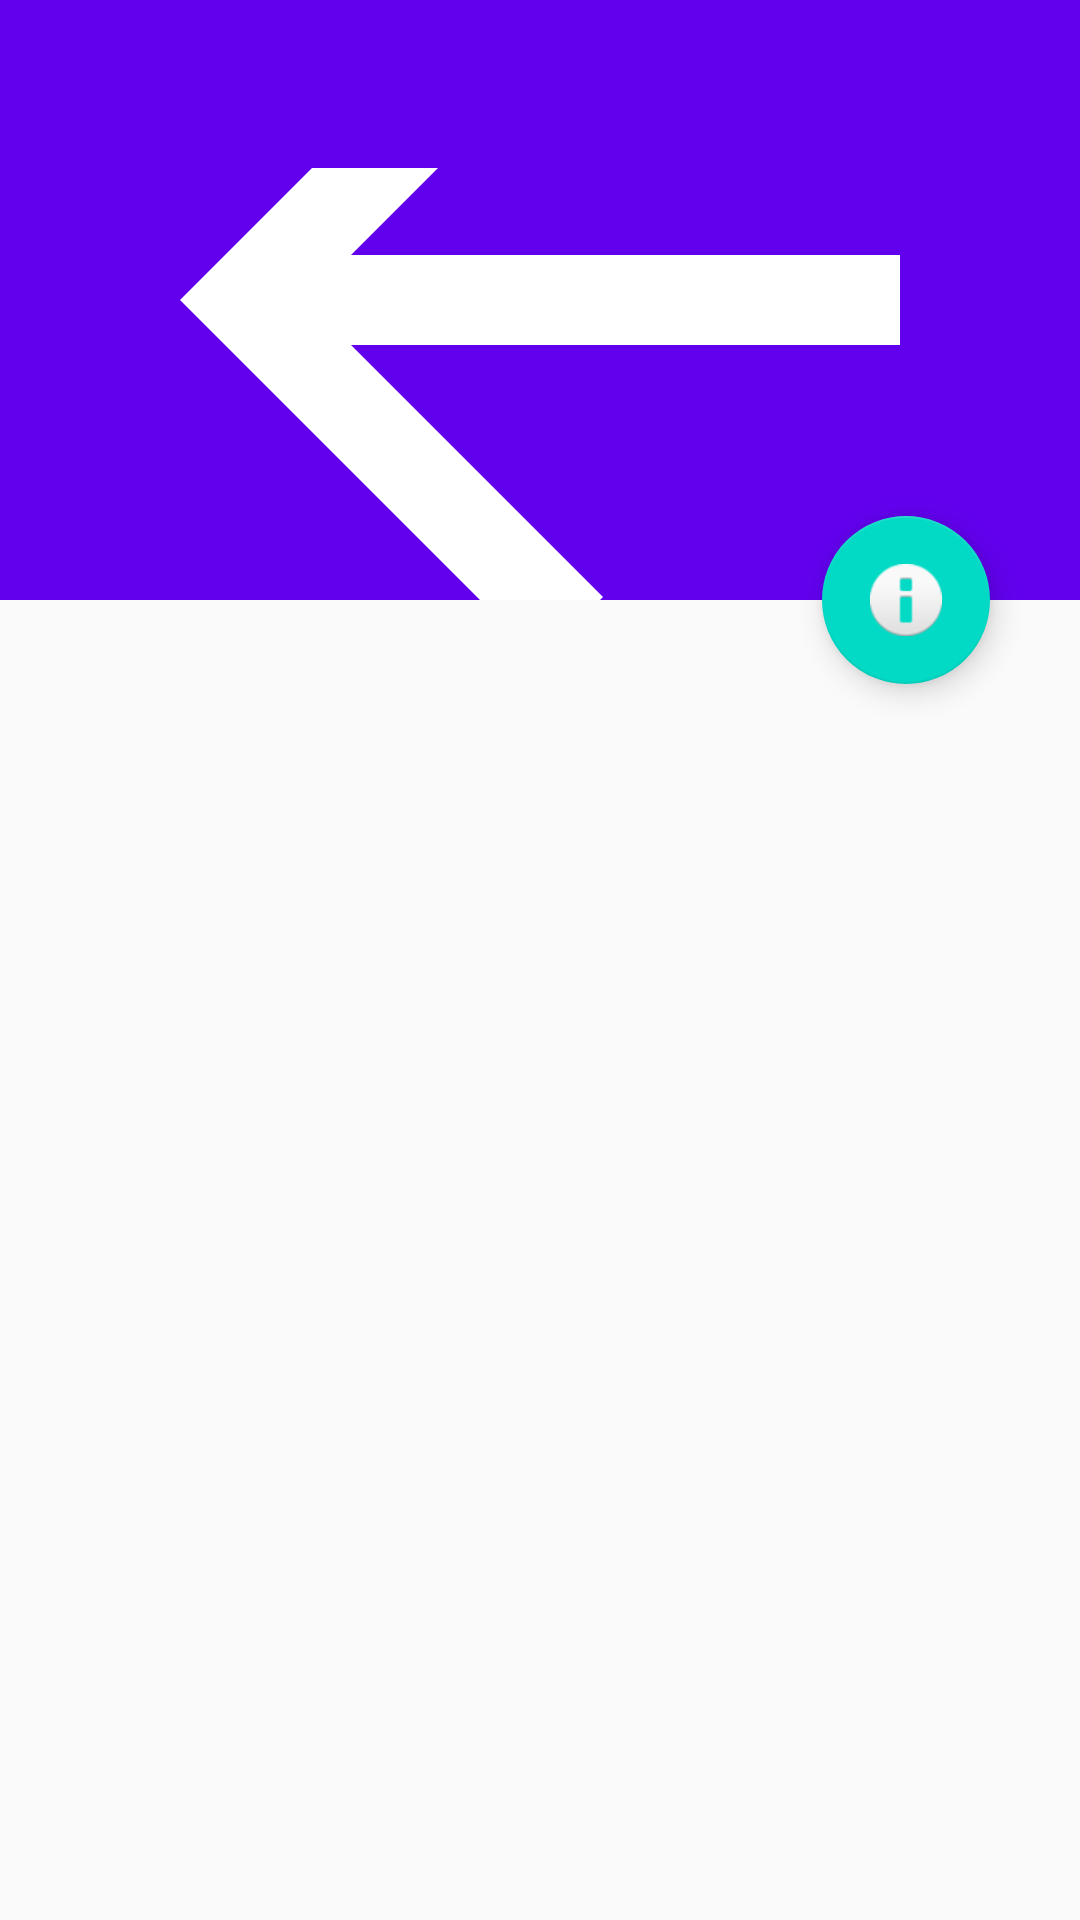

Icons on this 1080w x 1920h Android screen, each with the point to tap as (x=x, y=y):
info: (x=906, y=600)
